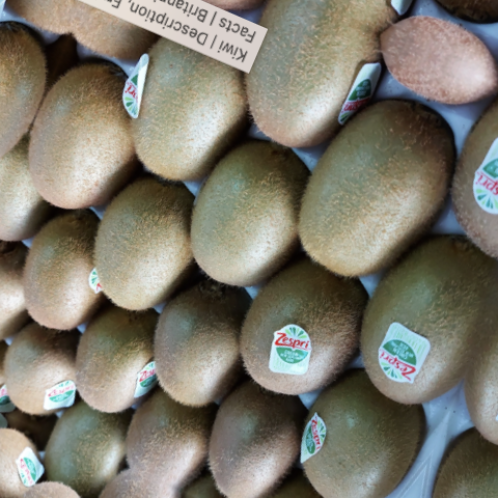kiwi: (260, 68, 490, 326), (88, 4, 279, 216), (2, 26, 181, 240), (325, 216, 498, 430), (213, 0, 407, 188), (63, 152, 228, 340), (221, 241, 375, 417), (177, 351, 336, 498), (0, 192, 143, 354), (47, 284, 188, 433), (122, 282, 257, 430)
